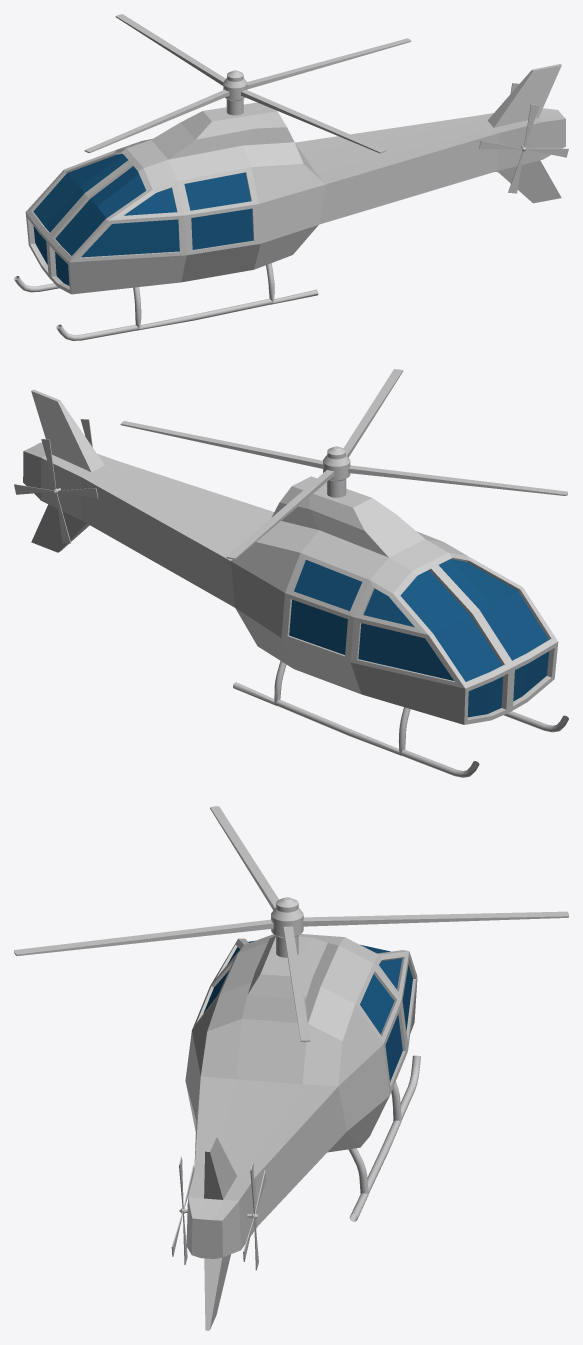
Rendered from helicopter_animation_000170.obj.
The picture shows the model from 3 angles, top to bottom: view 1: azimuth 30°, elevation 25°; view 2: azimuth 150°, elevation 25°; view 3: azimuth 270°, elevation 25°; orthographic projection. The views are drawn at different scales.
Parts seen in each view (by area): view 1: Helicopter.007_Cylinder.008, Helicopter.001_Cylinder.001, Helicopter.003_Cylinder.004; view 2: Helicopter.007_Cylinder.008, Helicopter.001_Cylinder.001, Helicopter.004_Cylinder.005; view 3: Helicopter.007_Cylinder.008, Helicopter.001_Cylinder.001.
Part boxes in pixels (x1,y1,x2,y2): Helicopter.007_Cylinder.008: (14,64,565,340); Helicopter.001_Cylinder.001: (84,14,411,153); Helicopter.003_Cylinder.004: (479,104,568,193); Helicopter.007_Cylinder.008: (23,389,568,777); Helicopter.001_Cylinder.001: (120,369,567,559); Helicopter.004_Cylinder.005: (14,439,97,543); Helicopter.007_Cylinder.008: (185,934,420,1330); Helicopter.001_Cylinder.001: (14,806,568,1042).
Size of the model in its own units: 7.55 by 3.2 by 5.51.
